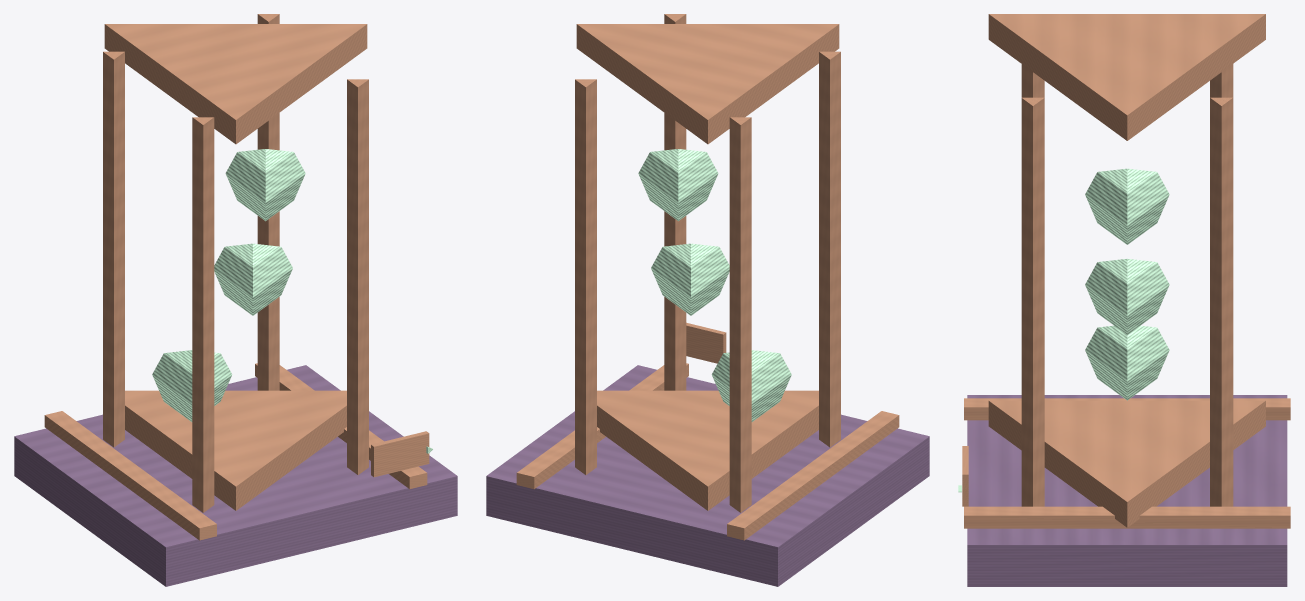
Rendered from atlas100-s090-a04.lod1.glb.
3 views of the same model, side by side, from view 1: azimuth 30°, elevation 25°; view 2: azimuth 150°, elevation 25°; view 3: azimuth 270°, elevation 25° (orthographic). The views are drawn at different scales.
Parts seen in each view (by area): view 1: atlas100-s090-a04:part-000, atlas100-s090-a04:part-004, atlas100-s090-a04:part-003, atlas100-s090-a04:part-007, atlas100-s090-a04:part-009, atlas100-s090-a04:part-005, atlas100-s090-a04:part-001, atlas100-s090-a04:part-015, atlas100-s090-a04:part-014, atlas100-s090-a04:part-011, atlas100-s090-a04:part-013, atlas100-s090-a04:part-016 (+1 smaller); view 2: atlas100-s090-a04:part-000, atlas100-s090-a04:part-004, atlas100-s090-a04:part-003, atlas100-s090-a04:part-009, atlas100-s090-a04:part-007, atlas100-s090-a04:part-011, atlas100-s090-a04:part-001, atlas100-s090-a04:part-015, atlas100-s090-a04:part-014, atlas100-s090-a04:part-005, atlas100-s090-a04:part-013, atlas100-s090-a04:part-002 (+1 smaller); view 3: atlas100-s090-a04:part-000, atlas100-s090-a04:part-004, atlas100-s090-a04:part-003, atlas100-s090-a04:part-005, atlas100-s090-a04:part-011, atlas100-s090-a04:part-002, atlas100-s090-a04:part-015, atlas100-s090-a04:part-014, atlas100-s090-a04:part-013, atlas100-s090-a04:part-001, atlas100-s090-a04:part-009, atlas100-s090-a04:part-007.
Part boxes in pixels (left/top/right/bottom): atlas100-s090-a04:part-000: left=14, top=365, right=457, bottom=586; atlas100-s090-a04:part-004: left=104, top=24, right=367, bottom=144; atlas100-s090-a04:part-003: left=125, top=390, right=346, bottom=510; atlas100-s090-a04:part-007: left=192, top=117, right=214, bottom=512; atlas100-s090-a04:part-009: left=103, top=51, right=124, bottom=447; atlas100-s090-a04:part-005: left=347, top=79, right=368, bottom=474; atlas100-s090-a04:part-001: left=44, top=411, right=216, bottom=540; atlas100-s090-a04:part-015: left=225, top=149, right=305, bottom=221; atlas100-s090-a04:part-014: left=214, top=243, right=292, bottom=315; atlas100-s090-a04:part-011: left=257, top=14, right=279, bottom=390; atlas100-s090-a04:part-013: left=152, top=350, right=232, bottom=421; atlas100-s090-a04:part-016: left=371, top=431, right=429, bottom=477; atlas100-s090-a04:part-000: left=486, top=365, right=929, bottom=586; atlas100-s090-a04:part-004: left=576, top=24, right=839, bottom=144; atlas100-s090-a04:part-003: left=597, top=390, right=818, bottom=510; atlas100-s090-a04:part-009: left=729, top=117, right=751, bottom=512; atlas100-s090-a04:part-007: left=819, top=51, right=840, bottom=447; atlas100-s090-a04:part-011: left=575, top=79, right=596, bottom=474; atlas100-s090-a04:part-001: left=727, top=411, right=899, bottom=540; atlas100-s090-a04:part-015: left=638, top=149, right=718, bottom=221; atlas100-s090-a04:part-014: left=651, top=243, right=729, bottom=315; atlas100-s090-a04:part-005: left=664, top=14, right=686, bottom=390; atlas100-s090-a04:part-013: left=711, top=350, right=791, bottom=421; atlas100-s090-a04:part-002: left=516, top=363, right=688, bottom=489; atlas100-s090-a04:part-000: left=967, top=395, right=1287, bottom=586; atlas100-s090-a04:part-004: left=988, top=14, right=1265, bottom=140; atlas100-s090-a04:part-003: left=988, top=400, right=1265, bottom=527; atlas100-s090-a04:part-005: left=1021, top=97, right=1044, bottom=506; atlas100-s090-a04:part-011: left=1210, top=97, right=1233, bottom=506; atlas100-s090-a04:part-002: left=964, top=506, right=1290, bottom=528; atlas100-s090-a04:part-015: left=1085, top=168, right=1169, bottom=244; atlas100-s090-a04:part-014: left=1085, top=258, right=1169, bottom=334; atlas100-s090-a04:part-013: left=1085, top=325, right=1169, bottom=400; atlas100-s090-a04:part-001: left=964, top=398, right=1290, bottom=420; atlas100-s090-a04:part-009: left=1210, top=64, right=1233, bottom=97; atlas100-s090-a04:part-007: left=1021, top=64, right=1044, bottom=97.
Size of the model in its own units: 2 by 2.88 by 1.87.
3 materials, 3 textured.
